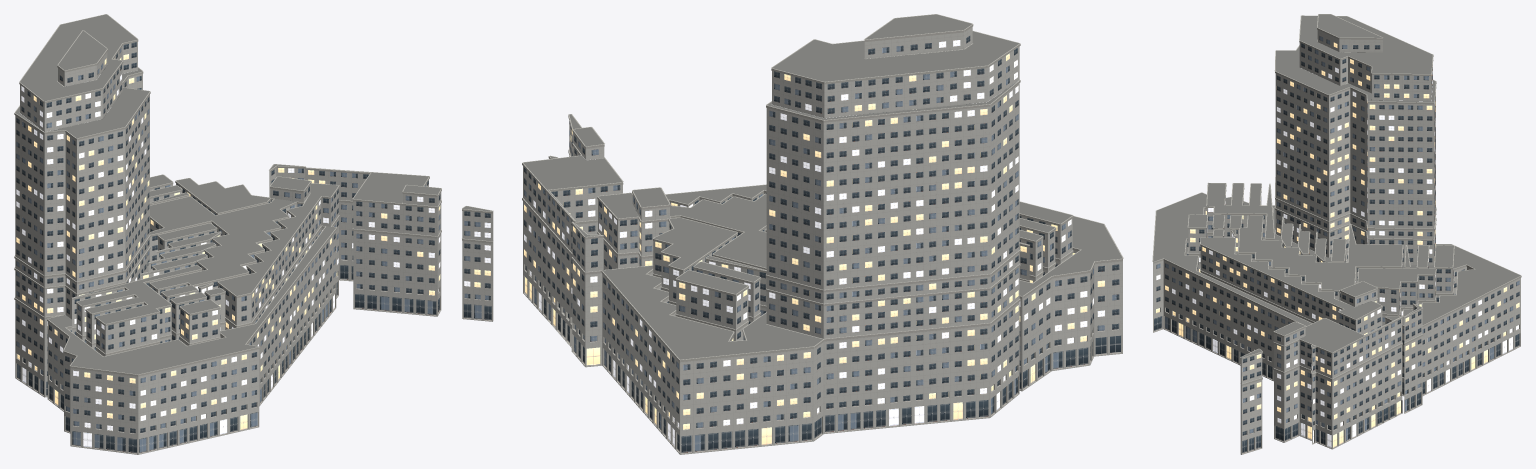
Rendered from migros_limmatplatz.glb.
3 views of the same model, side by side, from view 1: azimuth 30°, elevation 25°; view 2: azimuth 150°, elevation 25°; view 3: azimuth 270°, elevation 25° (orthographic). The views are drawn at different scales.
Parts seen in each view (by area): view 1: migros_limmatplatz; view 2: migros_limmatplatz; view 3: migros_limmatplatz.
Boxes of the visible parts, x1=… form: migros_limmatplatz: x1=14, y1=14, x2=493, y2=454; migros_limmatplatz: x1=522, y1=14, x2=1123, y2=454; migros_limmatplatz: x1=1152, y1=14, x2=1521, y2=454.
Size of the model in its own units: 134 by 89.85 by 109.
Materials: 3 (3 with a texture image).
